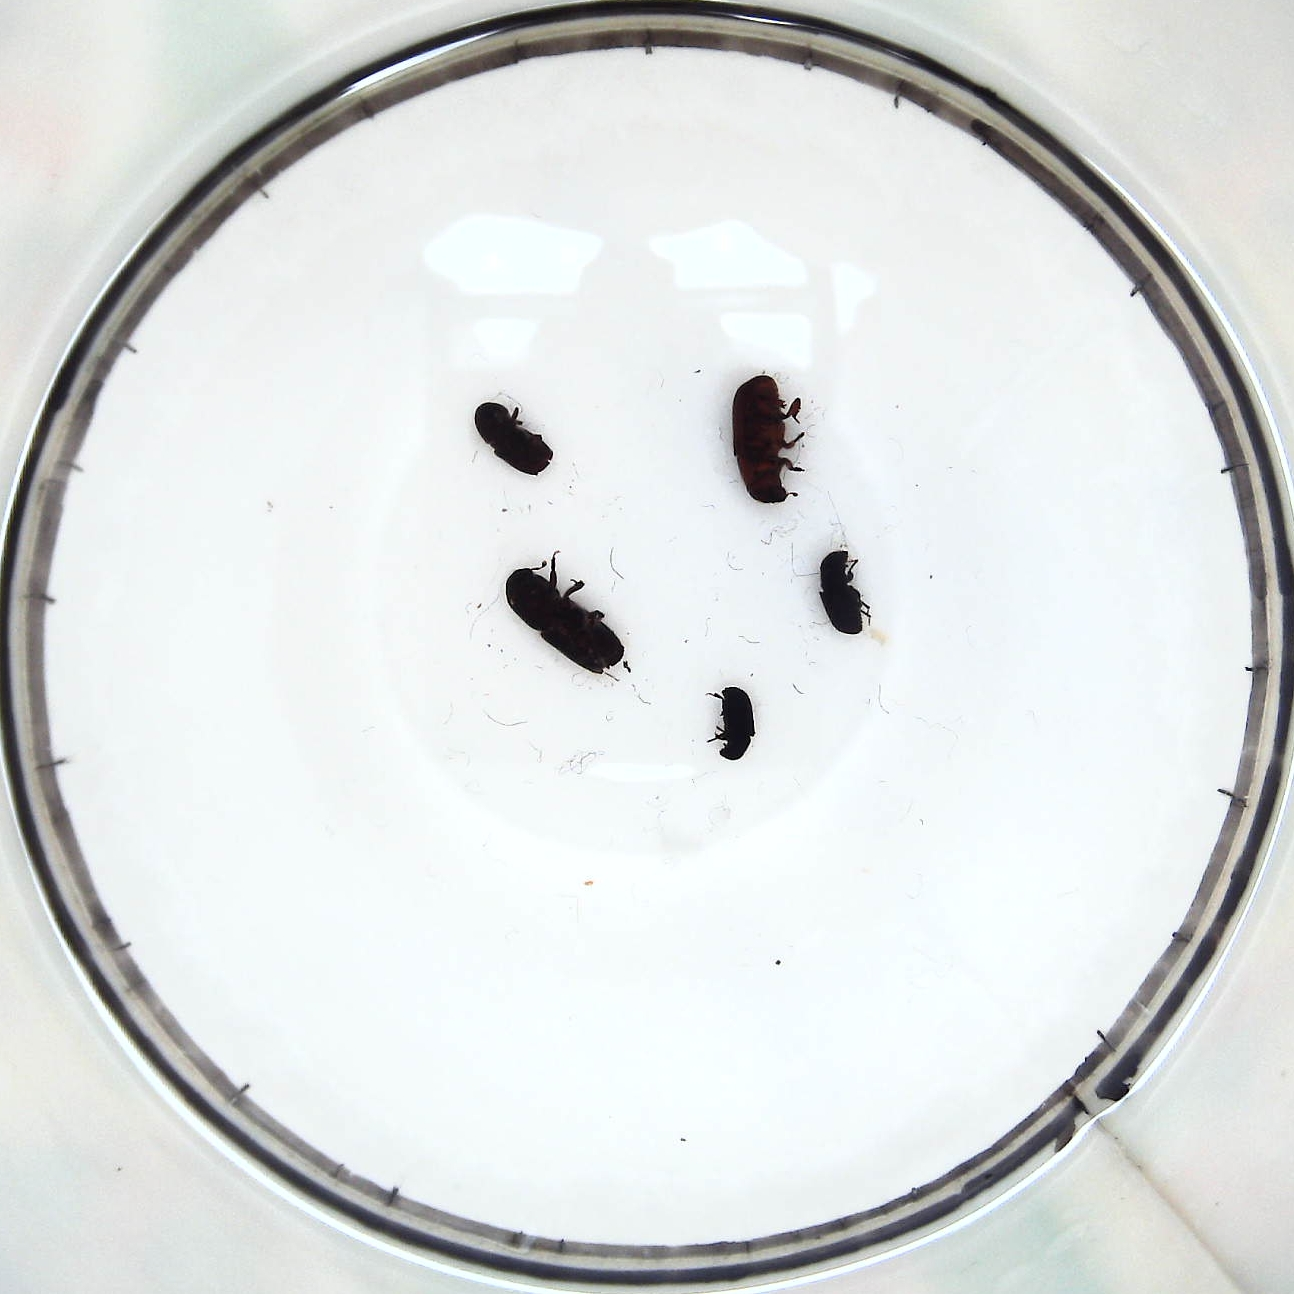Boerner: (504, 565, 629, 670)
Leconte: (735, 374, 807, 502)
Linnaeus: (476, 393, 555, 478)
armandi: (815, 547, 873, 636)
coleoptera: (712, 678, 750, 763)
